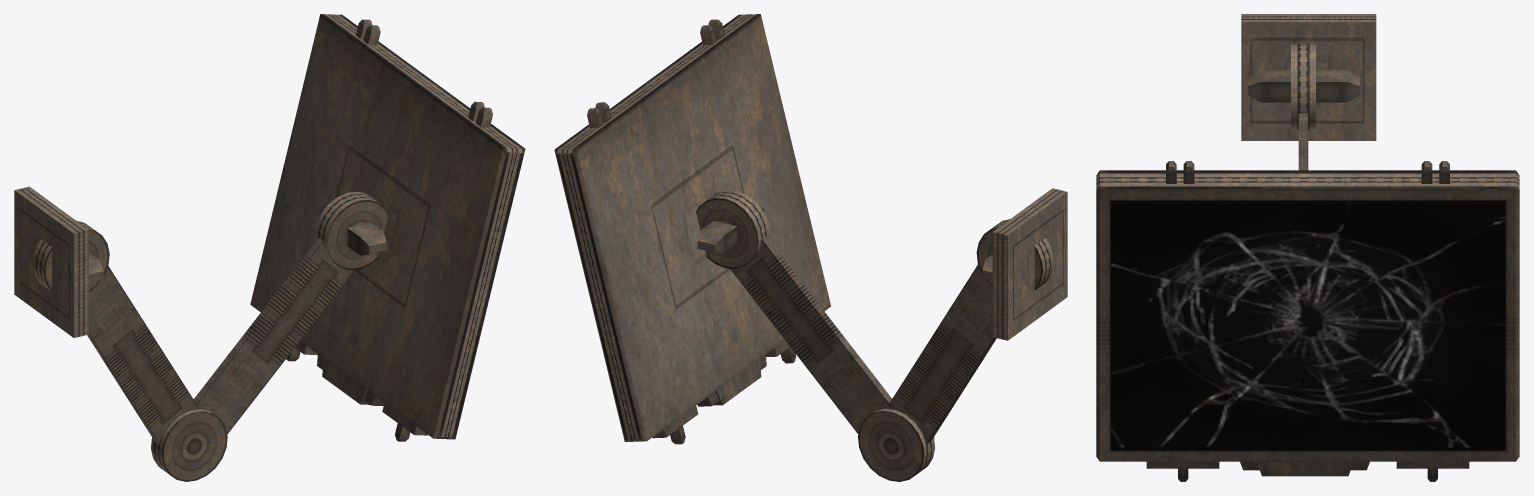
File: monitor.fbx
3 views of the same model, side by side, from view 1: azimuth 30°, elevation 25°; view 2: azimuth 150°, elevation 25°; view 3: azimuth 270°, elevation 25° (orthographic). The views are drawn at different scales.
Parts seen in each view (by area): view 1: Mesh; view 2: Mesh; view 3: Mesh.
Boxes of the visible parts, x1,y1,x2,y2 form: Mesh: (14, 14, 525, 481); Mesh: (554, 14, 1067, 481); Mesh: (1096, 14, 1519, 481).
Bounding box in the file's own units: 57.73 × 49.09 × 46.87.
